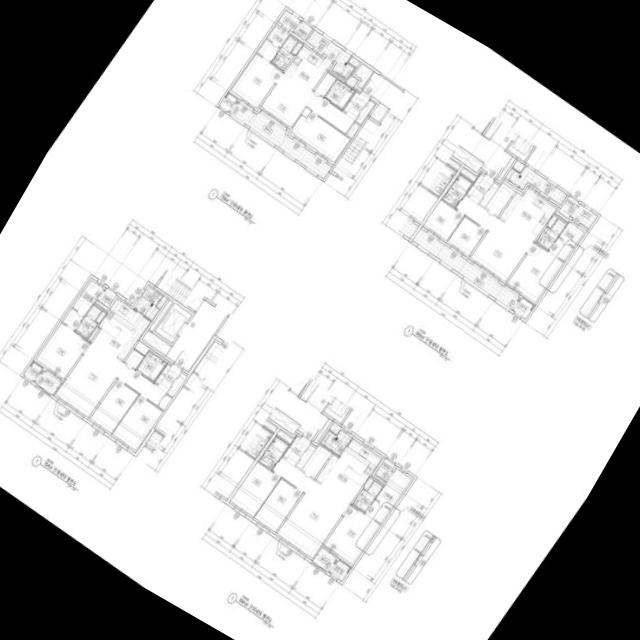background: (0, 0, 640, 640)
space_balconi: (412, 228, 520, 310), (229, 100, 331, 178), (505, 166, 567, 205), (306, 30, 354, 79), (133, 286, 162, 320), (320, 430, 352, 456), (34, 370, 61, 395), (571, 204, 597, 229), (312, 547, 337, 572), (277, 10, 300, 31)
space_bedroom: (507, 243, 563, 302), (323, 505, 379, 564), (290, 111, 349, 162), (36, 323, 89, 379), (231, 53, 282, 108), (230, 461, 280, 517), (112, 395, 162, 450), (90, 379, 138, 433), (254, 478, 302, 532), (423, 199, 464, 240), (447, 216, 486, 256)
space_dressroom: (365, 469, 411, 523), (62, 280, 103, 330), (549, 222, 584, 261), (257, 26, 288, 61)
space_elevator: (155, 303, 191, 343)
space_elevator_hall: (165, 300, 227, 371)
space_front: (342, 91, 374, 124), (466, 173, 494, 204), (282, 435, 310, 465), (154, 363, 182, 392)
space_kitchen: (315, 438, 381, 503), (94, 298, 150, 360), (499, 188, 556, 241), (285, 45, 332, 90)
space_living_room: (55, 340, 166, 417), (272, 457, 350, 558), (456, 195, 533, 281), (260, 71, 354, 133)
space_other: (301, 444, 331, 478), (485, 182, 515, 216), (149, 299, 173, 331), (141, 330, 171, 355), (314, 72, 336, 97), (167, 372, 187, 397), (374, 458, 395, 481), (354, 63, 373, 88), (313, 419, 332, 443), (480, 183, 499, 207), (296, 445, 315, 469), (558, 196, 578, 218), (497, 157, 515, 181), (124, 349, 144, 369), (293, 21, 312, 40), (97, 288, 116, 307), (370, 102, 388, 122), (459, 168, 476, 182), (276, 430, 293, 444), (158, 394, 171, 410), (346, 122, 359, 137), (512, 160, 525, 172), (88, 327, 99, 341), (348, 56, 360, 68), (291, 42, 302, 55), (345, 76, 356, 87), (95, 311, 105, 323), (547, 215, 557, 227), (156, 296, 166, 308), (329, 424, 340, 434), (364, 477, 373, 489)
space_outdoor_room: (329, 559, 351, 582), (513, 297, 534, 319), (23, 361, 42, 381), (218, 92, 237, 111)
space_toilet: (258, 436, 289, 470), (442, 174, 472, 208), (352, 480, 383, 512), (536, 218, 566, 250), (75, 304, 101, 339), (136, 351, 166, 381), (324, 79, 354, 109), (271, 36, 297, 70)
